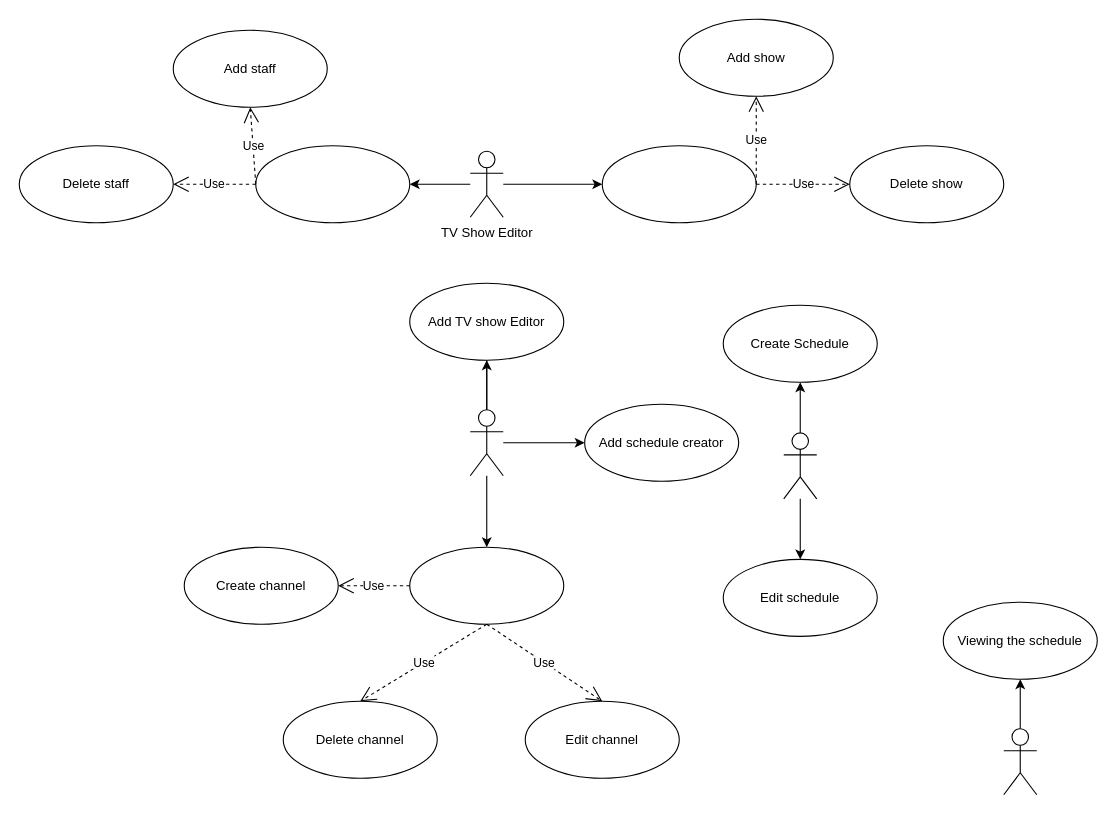
Some shapes in this 1117 by 837 pixel diagram are drawn without their labels. The centre of each missing label's shape, as x and y in pixels:
Admin: [486,442]
Schedule Creator: [800,465]
TV Viewer: [1020,761]
Work with channel: [486,585]
Work with staff: [332,184]
Work with TV show: [678,184]
